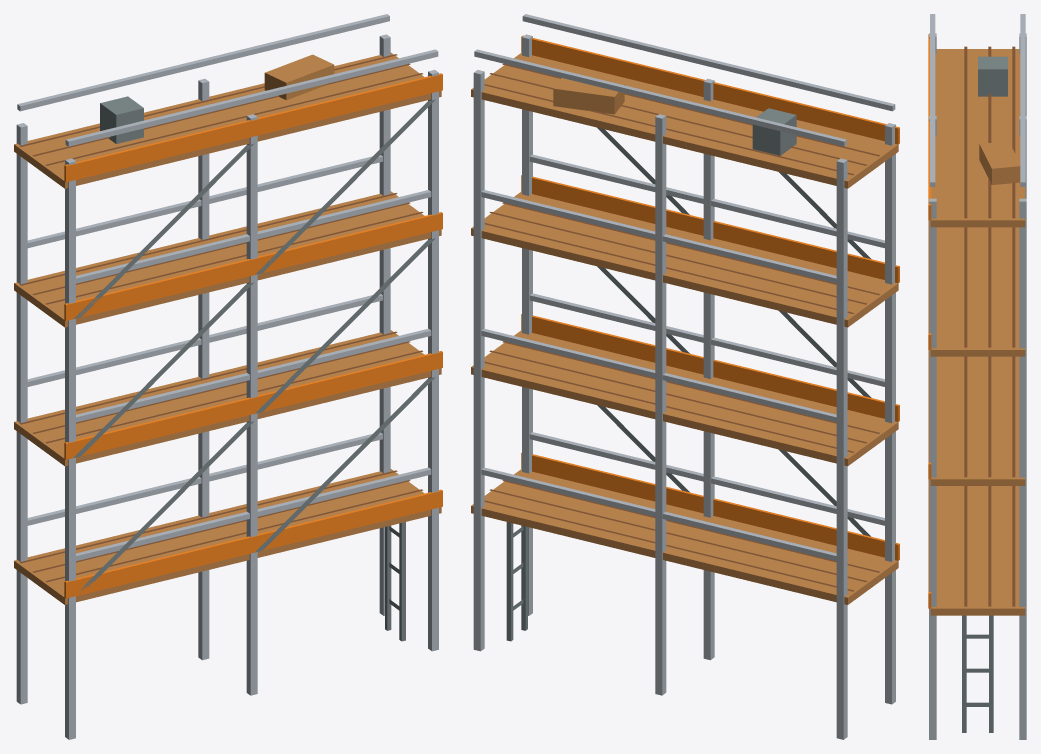
Rendered from scaffold.glb.
3 renders of one model, left to right at view 1: azimuth 30°, elevation 25°; view 2: azimuth 150°, elevation 25°; view 3: azimuth 270°, elevation 25°, orthographic. The views are drawn at different scales.
Parts seen in each view (by area): view 1: scaffold; view 2: scaffold; view 3: scaffold.
Boxes of the visible parts, x1=… form: scaffold: x1=14, y1=14, x2=442, y2=739; scaffold: x1=471, y1=14, x2=899, y2=739; scaffold: x1=928, y1=14, x2=1026, y2=739.
Size of the model in its own units: 0.54 by 0.8185 by 0.131.
